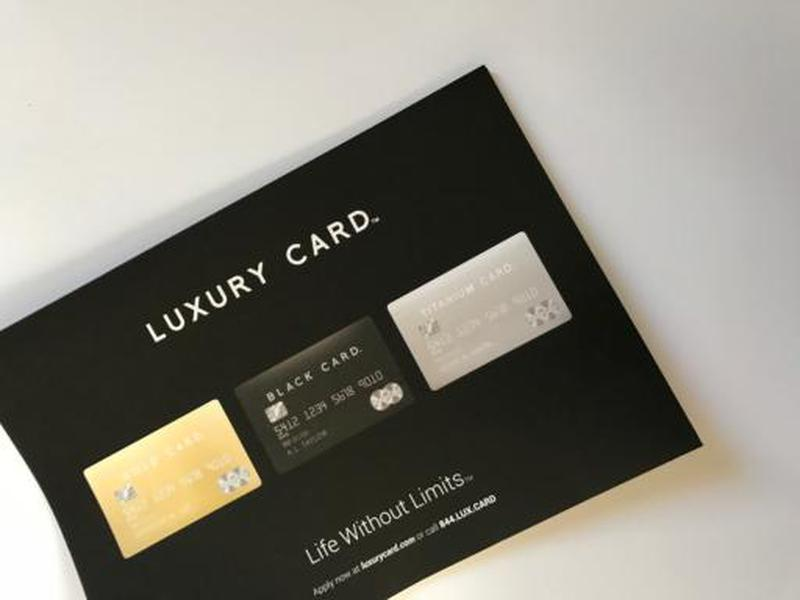paper: (1, 65, 701, 600)
